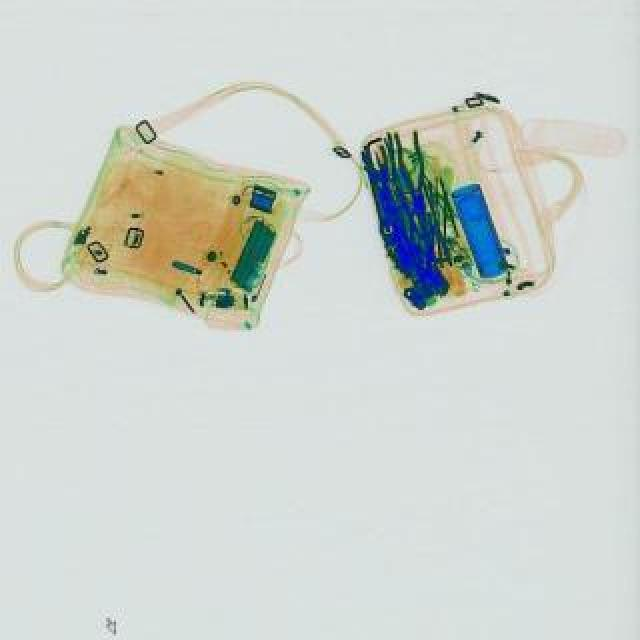wrench: (394, 132, 438, 240), (430, 226, 460, 274)
